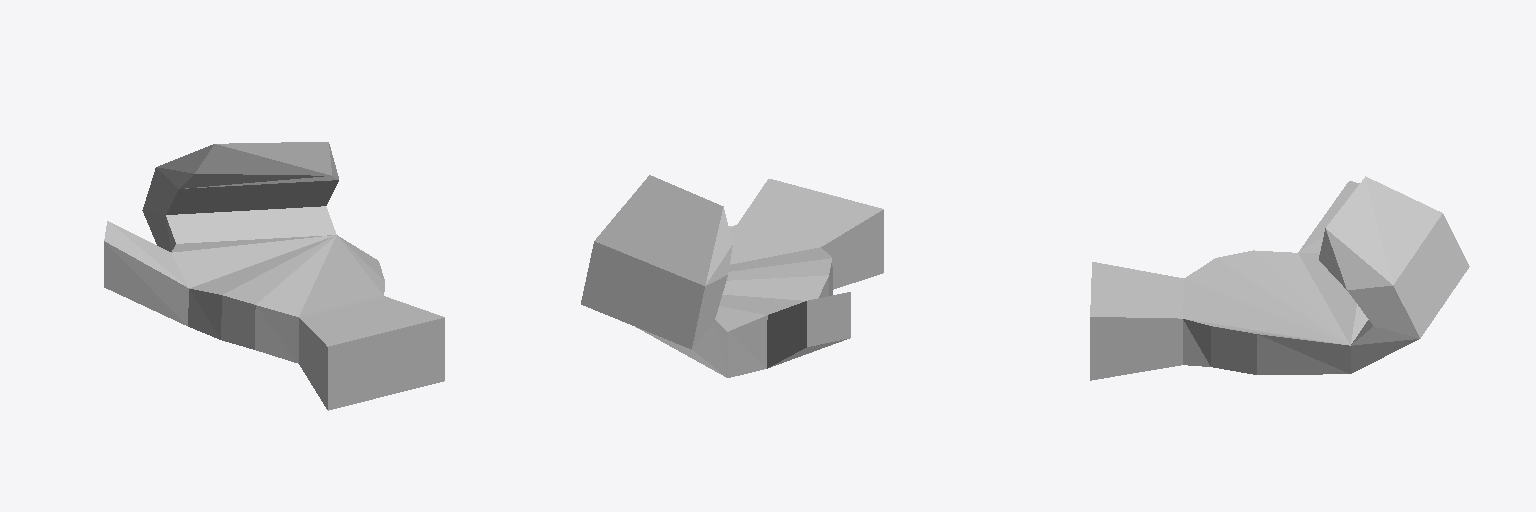
The model's file is hand.obj.
The picture shows the model from 3 angles: view 1: azimuth 30°, elevation 25°; view 2: azimuth 150°, elevation 25°; view 3: azimuth 270°, elevation 25°; orthographic projection.
Visible parts, largest first — view 1: Cube; view 2: Cube; view 3: Cube.
Boxes of the visible parts, x1=… form: Cube: x1=104, y1=142, x2=444, y2=410; Cube: x1=581, y1=175, x2=883, y2=377; Cube: x1=1090, y1=176, x2=1469, y2=380.
Bounding box in the file's own units: 2.64 × 1.73 × 3.7.